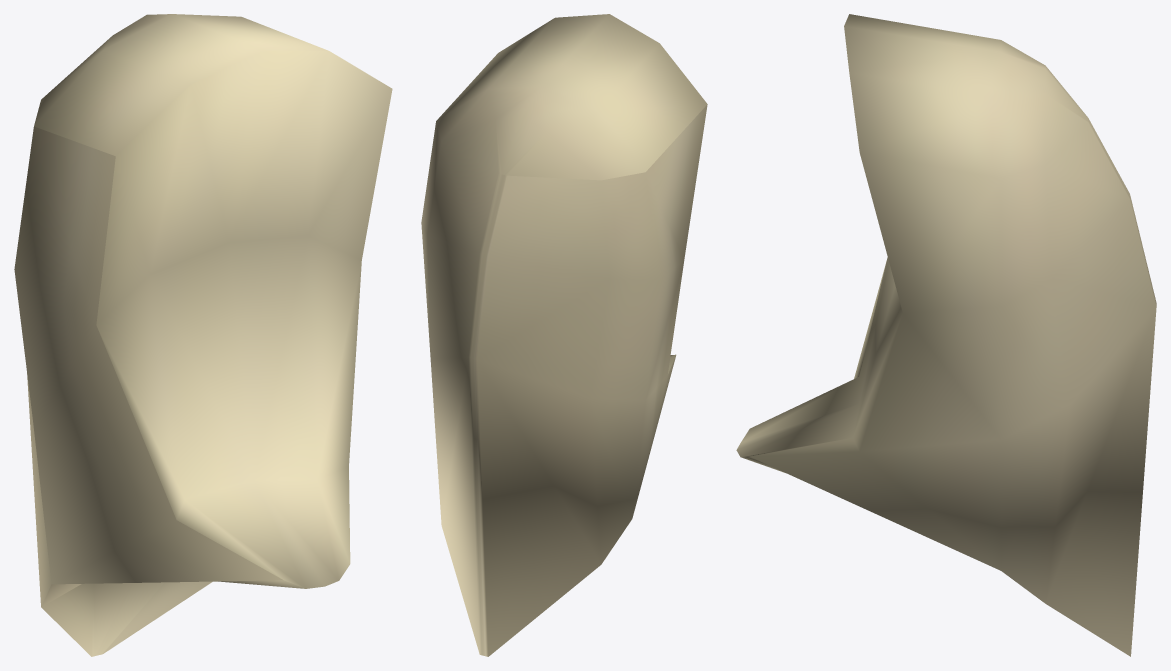
Rendered from helmet_moch_basic_inf_4.dae.
3 renders of one model, left to right at view 1: azimuth 30°, elevation 25°; view 2: azimuth 150°, elevation 25°; view 3: azimuth 270°, elevation 25°, orthographic. The views are drawn at different scales.
Parts seen in each view (by area): view 1: helmet_moch_basic_inf_4; view 2: helmet_moch_basic_inf_4; view 3: helmet_moch_basic_inf_4.
Part boxes in pixels (box(x1,y1,x2,y2)): helmet_moch_basic_inf_4: box(14, 14, 392, 656); helmet_moch_basic_inf_4: box(421, 14, 707, 656); helmet_moch_basic_inf_4: box(736, 14, 1156, 656).
Bounding box in the file's own units: 0.4617 × 0.6164 × 1.02.
